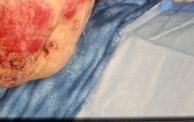SJS-TEN: (0, 0, 99, 94)
